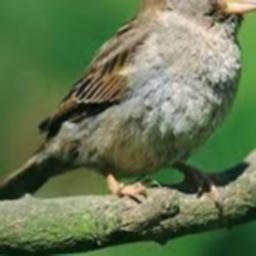Sparrow: (0, 0, 256, 209)
